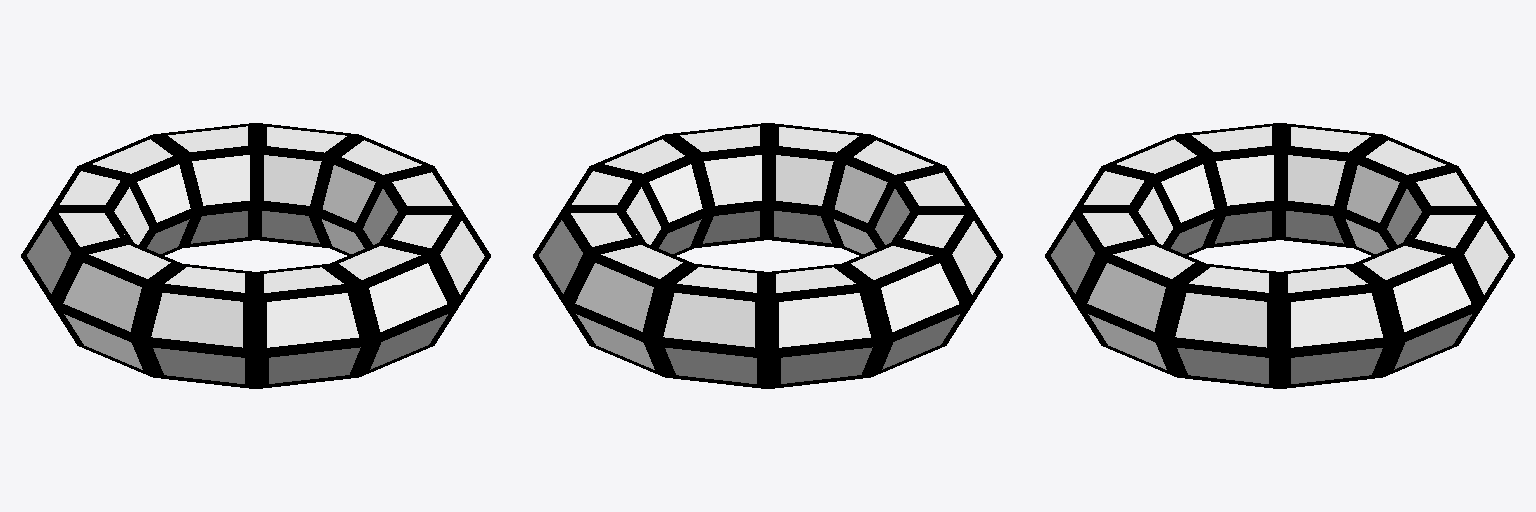
3 views of the same model, side by side, from view 1: azimuth 30°, elevation 25°; view 2: azimuth 150°, elevation 25°; view 3: azimuth 270°, elevation 25° (orthographic).
Visible parts, largest first — view 1: Torus; view 2: Torus; view 3: Torus.
Part boxes in pixels (x1,y1,x2,y2): Torus: (21, 123, 490, 388); Torus: (533, 123, 1002, 388); Torus: (1045, 123, 1514, 388).
Size of the model in its own units: 2 by 0.433 by 2.
1 materials, 1 textured.